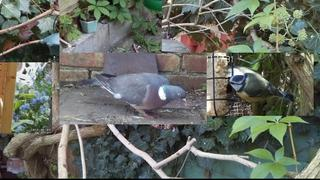blue tit: (227, 73, 294, 102)
dunnock: (17, 20, 40, 48)
wood pigeon: (80, 73, 187, 120)
